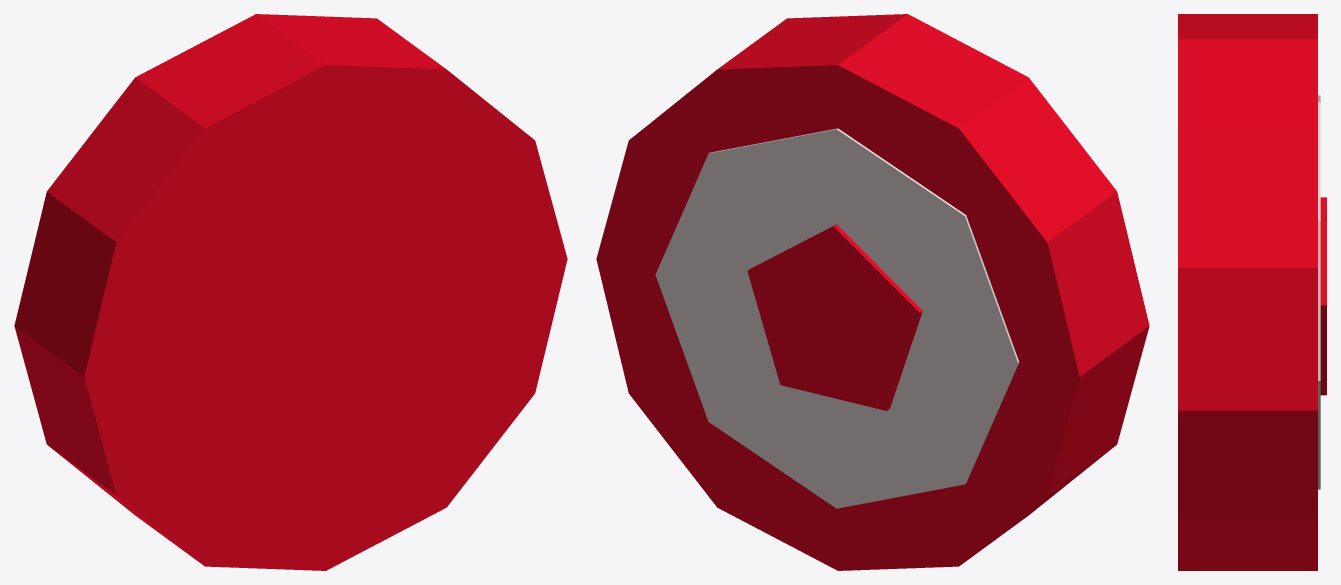
3 views of the same model, side by side, from view 1: azimuth 30°, elevation 25°; view 2: azimuth 150°, elevation 25°; view 3: azimuth 270°, elevation 25° (orthographic).
Parts seen in each view (by area): view 1: Cylinder; view 2: Cylinder, Cylinder.001, Cylinder.002; view 3: Cylinder, Cylinder.002, Cylinder.001.
Boxes of the visible parts, x1=… form: Cylinder: x1=14, y1=14, x2=567, y2=570; Cylinder: x1=596, y1=14, x2=1149, y2=570; Cylinder.001: x1=655, y1=128, x2=1019, y2=508; Cylinder.002: x1=747, y1=224, x2=922, y2=410; Cylinder: x1=1178, y1=14, x2=1317, y2=570; Cylinder.002: x1=1320, y1=197, x2=1326, y2=395; Cylinder.001: x1=1318, y1=95, x2=1320, y2=489.
Size of the model in its own units: 2 by 2 by 0.5323.
